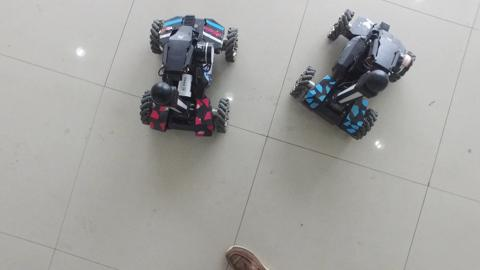chariot: (284, 3, 426, 145), (129, 12, 244, 139)
